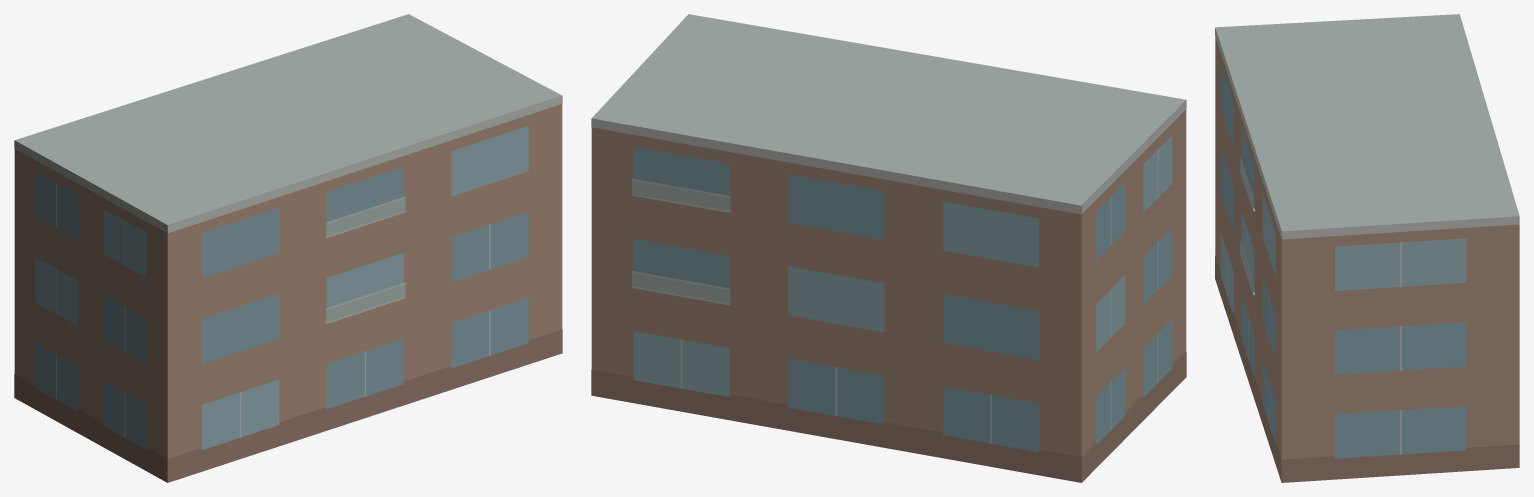
The model's file is survey-upis-32982655.glb.
The picture shows the model from 3 angles, left to right: view 1: azimuth 30°, elevation 25°; view 2: azimuth 150°, elevation 25°; view 3: azimuth 270°, elevation 25°; orthographic projection. The views are drawn at different scales.
Parts seen in each view (by area): view 1: survey-upis-32982655.tmp; view 2: survey-upis-32982655.tmp; view 3: survey-upis-32982655.tmp.
Boxes of the visible parts, x1=… form: survey-upis-32982655.tmp: x1=14, y1=14, x2=562, y2=482; survey-upis-32982655.tmp: x1=591, y1=14, x2=1186, y2=482; survey-upis-32982655.tmp: x1=1215, y1=14, x2=1519, y2=482.
Size of the model in its own units: 14.1 by 7.6 by 8.36.
